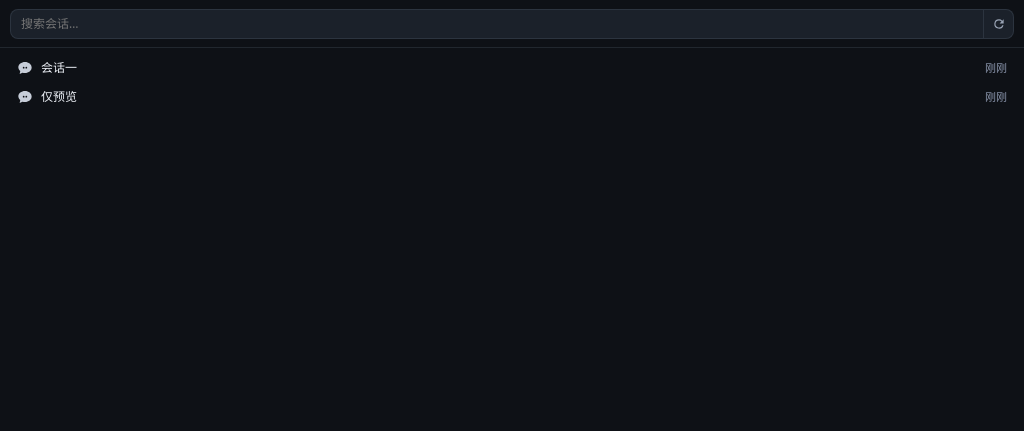
SessionView 右键菜单 › 右键会话行显示菜单：打开/重命名/分叉会话/置顶固定/微信接入/删除会话
Right-click the element with class "session-item" showing "会话一 刚刚".
right_click(59, 68)  # box x1=17 y1=59 x2=1007 y2=76
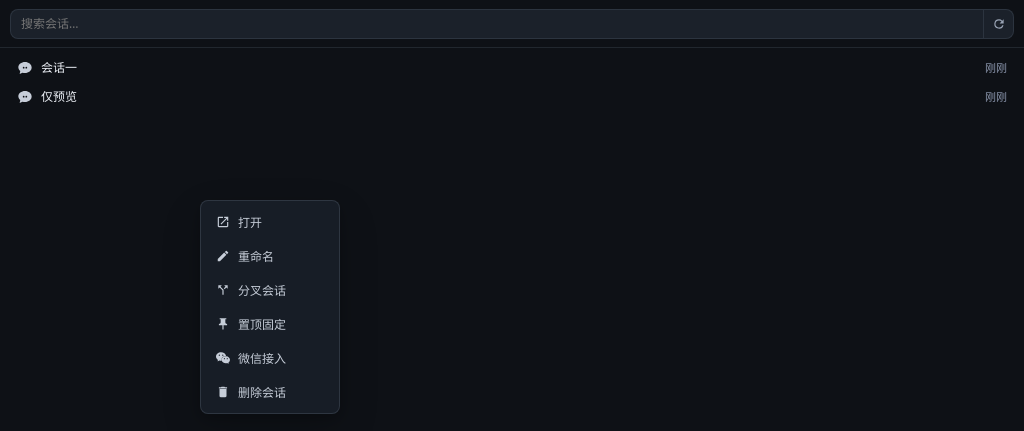
Expected: the elements with class "ctx-menu-item" read "打开", "重命名", "分叉会话", "置顶固定", "微信接入", "删除会话", in this order, x1=205 y1=205 x2=335 y2=239; x1=205 y1=239 x2=335 y2=273; x1=205 y1=273 x2=335 y2=307; x1=205 y1=307 x2=335 y2=341; x1=205 y1=341 x2=335 y2=375; x1=205 y1=375 x2=335 y2=409
